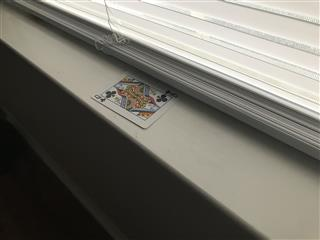QueenOfClubs: (89, 68, 183, 129)
